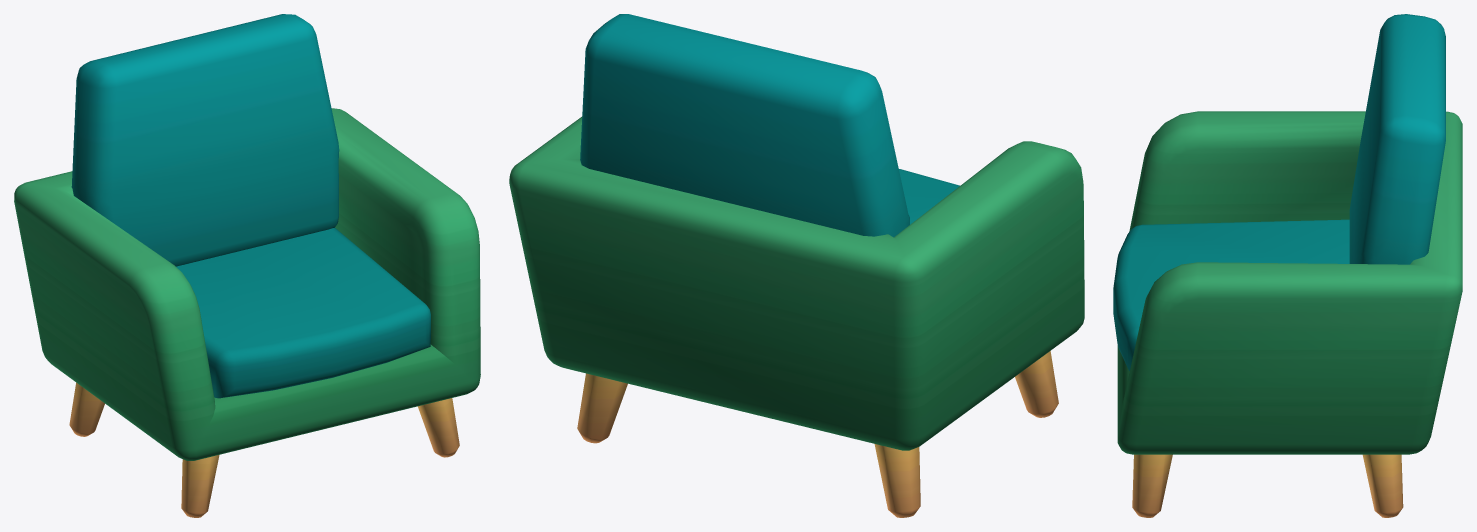
Rendered from Armchair_07.glb.
3 renders of one model, left to right at view 1: azimuth 30°, elevation 25°; view 2: azimuth 150°, elevation 25°; view 3: azimuth 270°, elevation 25°, orthographic. The views are drawn at different scales.
Parts seen in each view (by area): view 1: Armchair_07; view 2: Armchair_07; view 3: Armchair_07.
Part boxes in pixels (bbox=[...]): Armchair_07: bbox=[14, 14, 480, 517]; Armchair_07: bbox=[509, 14, 1084, 517]; Armchair_07: bbox=[1113, 14, 1462, 517].
Size of the model in its own units: 0.882 by 0.9006 by 0.7413.
Materials: 1 (1 with a texture image).
